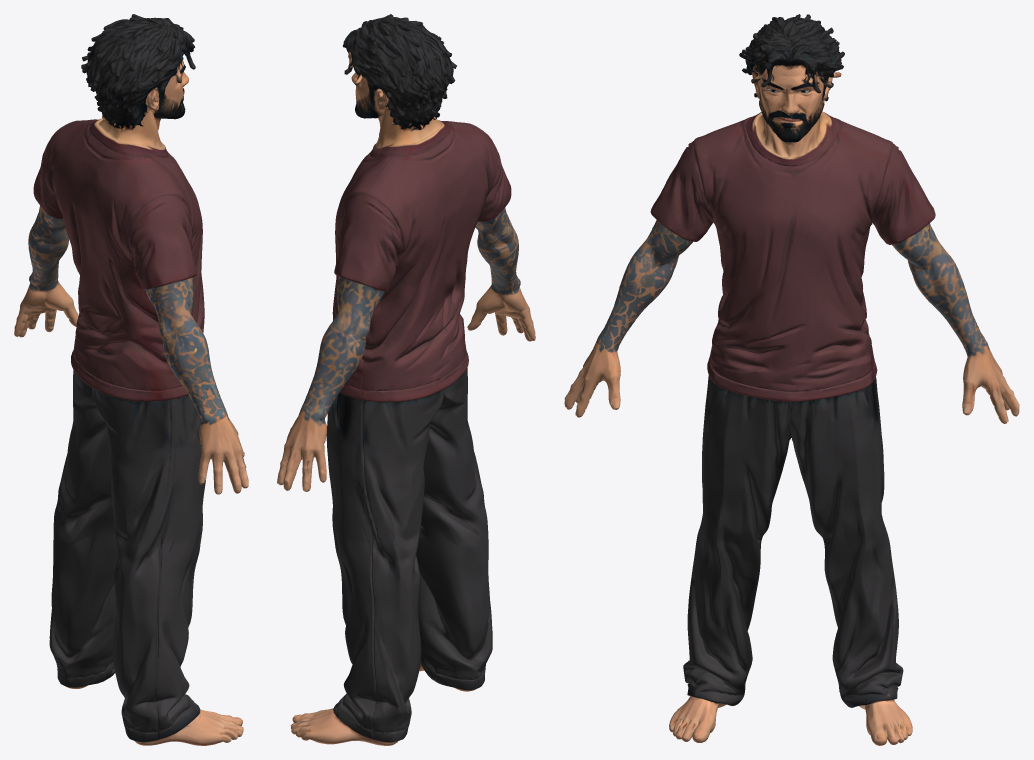
The model's file is seungyeon_v2_tripo.glb.
3 renders of one model, left to right at view 1: azimuth 30°, elevation 25°; view 2: azimuth 150°, elevation 25°; view 3: azimuth 270°, elevation 25°, orthographic.
Visible parts, largest first — view 1: tripo_node_1ced3584-0e02-4750-84dd-6340a39180b3; view 2: tripo_node_1ced3584-0e02-4750-84dd-6340a39180b3; view 3: tripo_node_1ced3584-0e02-4750-84dd-6340a39180b3.
Part boxes in pixels (left/top/right/bottom): tripo_node_1ced3584-0e02-4750-84dd-6340a39180b3: left=14, top=14, right=248, bottom=745; tripo_node_1ced3584-0e02-4750-84dd-6340a39180b3: left=277, top=14, right=535, bottom=745; tripo_node_1ced3584-0e02-4750-84dd-6340a39180b3: left=564, top=14, right=1019, bottom=745.
Size of the model in its own units: 0.1799 by 0.9798 by 0.5767.
1 material, 1 textured.
